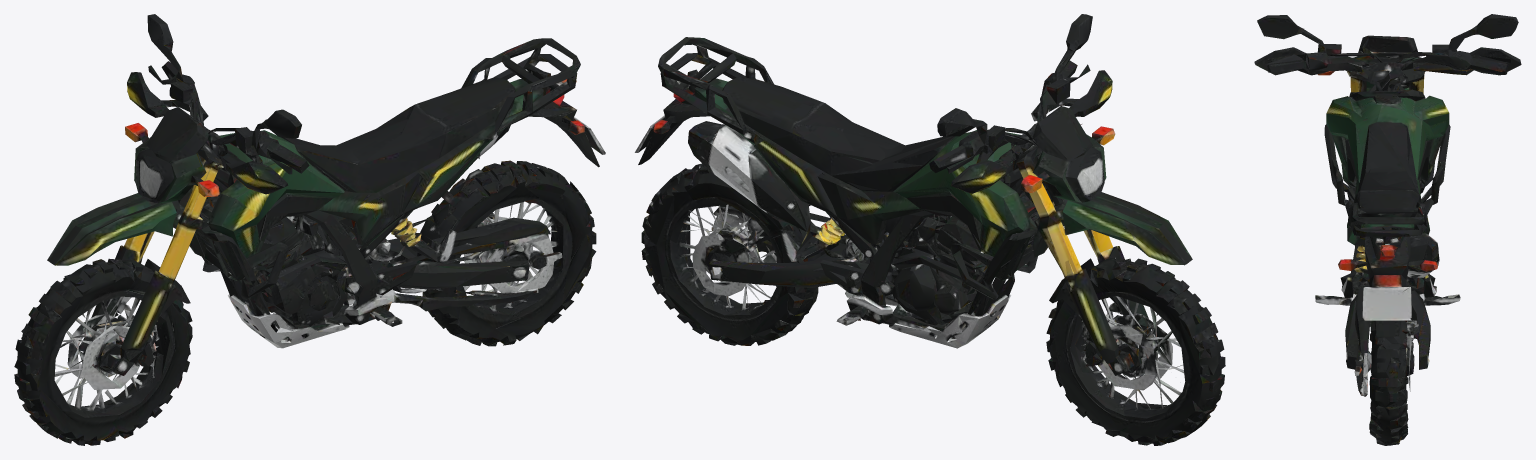
File: Motorbike.glb
3 renders of one model, left to right at view 1: azimuth 30°, elevation 25°; view 2: azimuth 150°, elevation 25°; view 3: azimuth 270°, elevation 25°, orthographic. The views are drawn at different scales.
Size of the model in its own units: 1.89 by 1.08 by 0.8724.
1 material, 1 textured.
